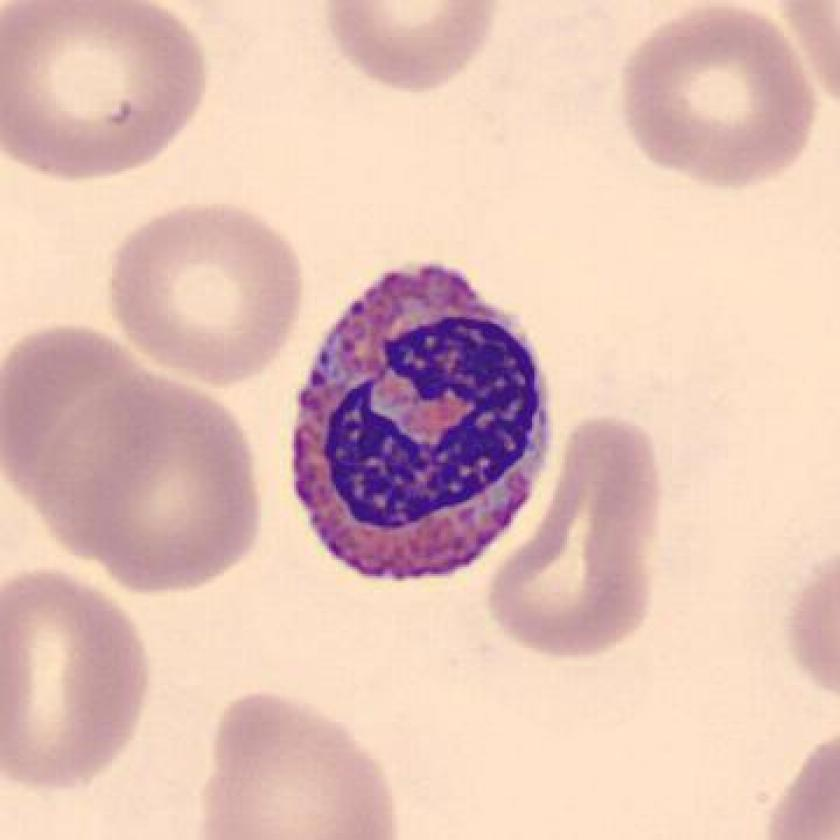eosinophil: (281, 244, 563, 603)
